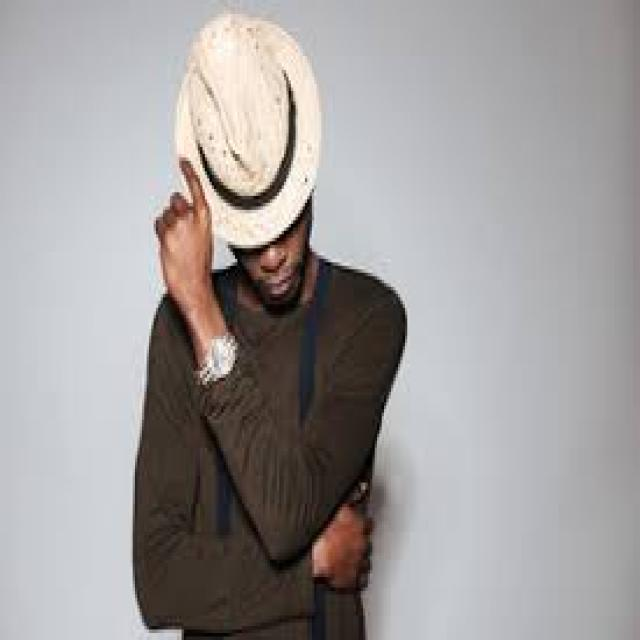hat: (174, 14, 330, 308)
